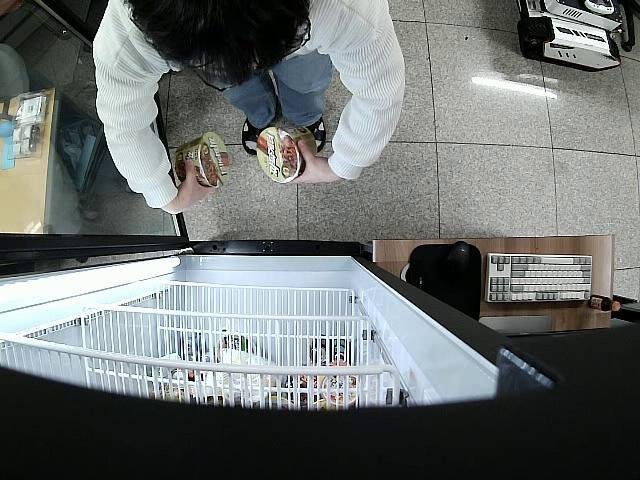03_chapagetti_L: (258, 121, 318, 182), (174, 129, 231, 188)
